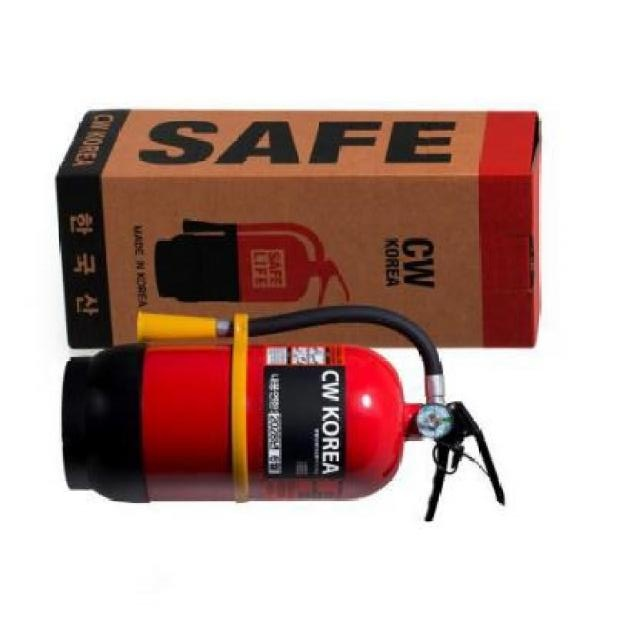fire extinguisher: (61, 304, 504, 521)
